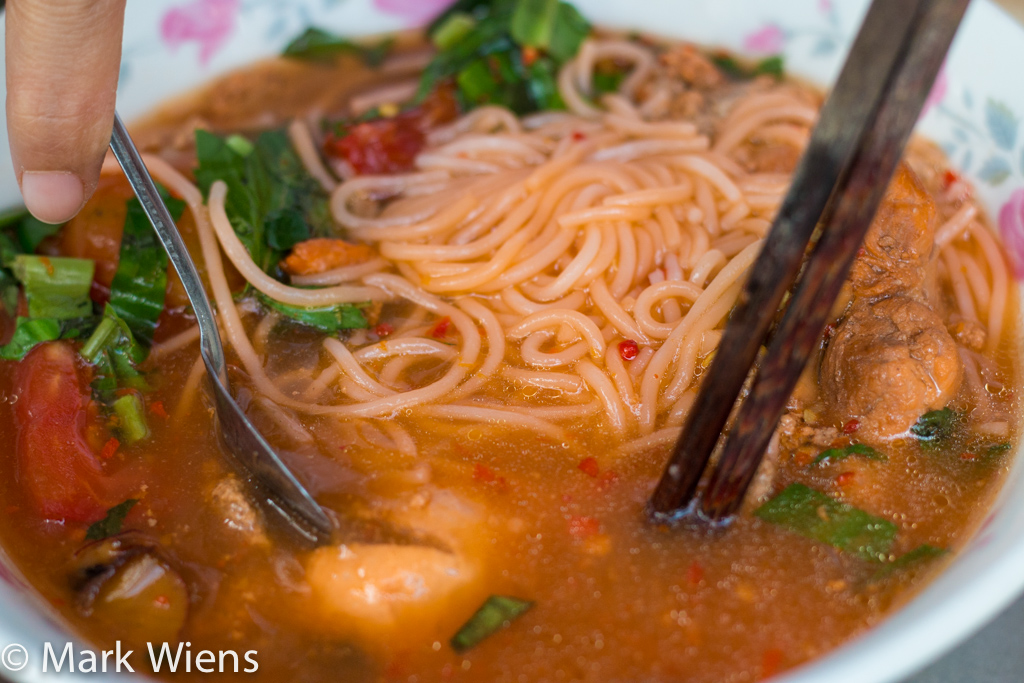pork: (820, 281, 956, 430)
